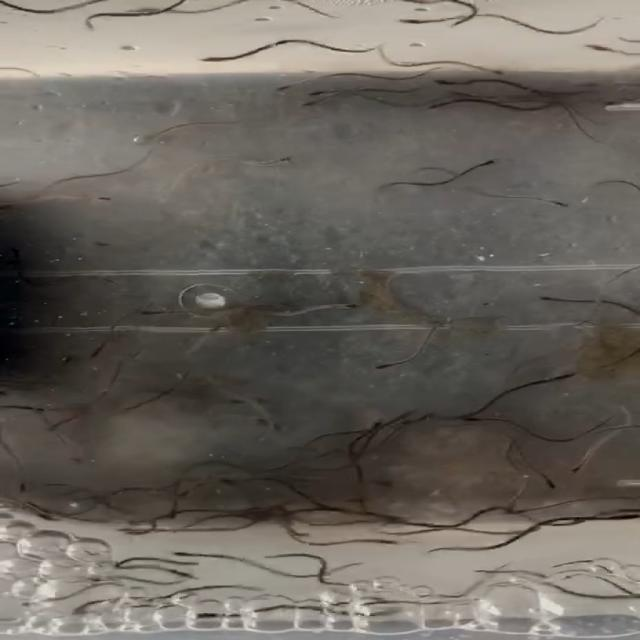active_glass_eel: (188, 42, 238, 76), (566, 33, 618, 65), (198, 470, 262, 496), (118, 300, 176, 328), (62, 186, 119, 214), (384, 7, 446, 31), (416, 91, 468, 118), (8, 475, 62, 501), (448, 409, 502, 434), (260, 148, 308, 176), (356, 355, 404, 383), (217, 390, 278, 412), (424, 64, 470, 93), (521, 370, 587, 390), (248, 79, 312, 99), (514, 289, 566, 313), (61, 596, 109, 622), (186, 321, 234, 346), (466, 150, 514, 173), (148, 503, 192, 527), (560, 461, 612, 481), (539, 191, 575, 219), (336, 291, 376, 316), (259, 502, 303, 524), (351, 414, 398, 434), (70, 344, 112, 366), (363, 510, 411, 528), (482, 61, 520, 83), (451, 565, 501, 581), (290, 95, 332, 114), (536, 472, 568, 496), (236, 418, 290, 432), (544, 514, 596, 528), (30, 504, 69, 522), (155, 550, 213, 562), (370, 537, 410, 550), (297, 88, 327, 102)
